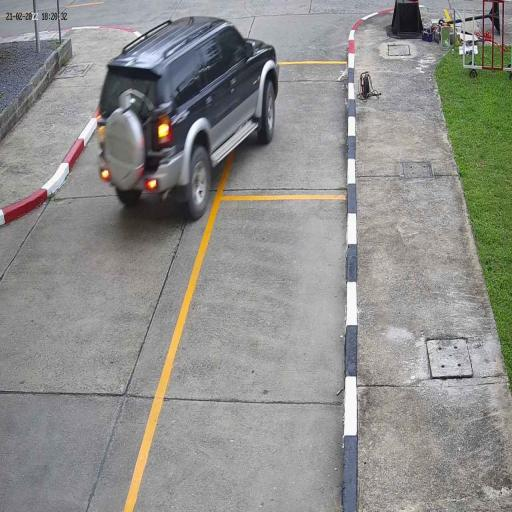car: (96, 15, 281, 222)
